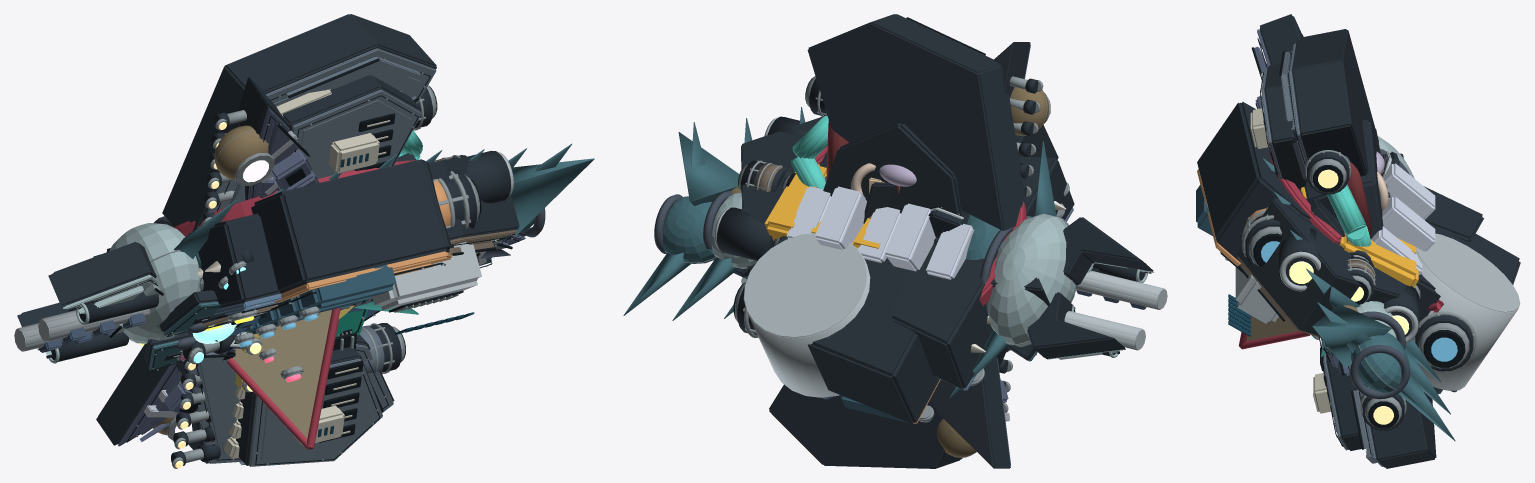
Rendered from voltaris-fleet.glb.
The picture shows the model from 3 angles, left to right: view 1: azimuth 30°, elevation 25°; view 2: azimuth 150°, elevation 25°; view 3: azimuth 270°, elevation 25°; orthographic projection. The views are drawn at different scales.
Parts seen in each view (by area): view 1: boss_gatekeeper__GATEKEEPER / primary paint, boss_gatekeeper__recess / carbon titanium, enemy_11__recess / carbon titanium, boss_nereid__recess / carbon titanium, boss_nereid__NEREID / contrasting armour, boss_nereid__NEREID / primary paint, enemy_31__OBELISK / primary paint, boss_ares__ARES / contrasting armour, enemy_27__recess / carbon titanium, boss_jove__JOVE / primary paint, boss_jove__recess / carbon titanium, boss_ares__recess / carbon titanium (+16 smaller); view 2: boss_gatekeeper__recess / carbon titanium, boss_ares__ARES / contrasting armour, enemy_11__recess / carbon titanium, boss_nereid__NEREID / primary paint, enemy_27__recess / carbon titanium, enemy_41__CALVING / contrasting armour, boss_nereid__NEREID / contrasting armour, boss_nereid__recess / carbon titanium, enemy_03__recess / carbon titanium, boss_ares__recess / carbon titanium, boss_jove__recess / carbon titanium, boss_jove__JOVE / service trim (+8 smaller); view 3: boss_gatekeeper__recess / carbon titanium, enemy_11__recess / carbon titanium, boss_ares__ARES / contrasting armour, boss_ares__recess / carbon titanium, boss_nereid__NEREID / primary paint, enemy_41__CALVING / contrasting armour, boss_gatekeeper__GATEKEEPER / primary paint, boss_nereid__NEREID / service trim, enemy_11__machined / titanium, boss_gatekeeper__ceramic / heatshield, enemy_27__recess / carbon titanium, enemy_27__ANVIL / contrasting armour (+21 smaller).
Part boxes in pixels (x1,y1,x2,y2): boss_gatekeeper__GATEKEEPER / primary paint: (188,48,436,466); boss_gatekeeper__recess / carbon titanium: (162,14,436,465); enemy_11__recess / carbon titanium: (251,159,477,293); boss_nereid__recess / carbon titanium: (17,241,217,365); boss_nereid__NEREID / contrasting armour: (36,223,200,363); boss_nereid__NEREID / primary paint: (149,143,594,370); enemy_31__OBELISK / primary paint: (232,310,331,438); boss_ares__ARES / contrasting armour: (14,151,513,351); enemy_27__recess / carbon titanium: (104,213,280,308); boss_jove__JOVE / primary paint: (118,107,525,446); boss_jove__recess / carbon titanium: (96,77,526,445); boss_ares__recess / carbon titanium: (93,150,519,323); boss_gatekeeper__recess / carbon titanium: (769,14,1038,468); boss_ares__ARES / contrasting armour: (714,117,1167,397); enemy_11__recess / carbon titanium: (737,125,1058,423); boss_nereid__NEREID / primary paint: (623,107,1056,398); enemy_27__recess / carbon titanium: (891,156,1074,388); enemy_41__CALVING / contrasting armour: (786,186,974,279); boss_nereid__NEREID / contrasting armour: (711,192,1153,359); boss_nereid__recess / carbon titanium: (713,217,1153,360); enemy_03__recess / carbon titanium: (823,123,969,237); boss_ares__recess / carbon titanium: (717,116,1050,306); boss_jove__recess / carbon titanium: (747,42,1030,468); boss_jove__JOVE / service trim: (731,87,1048,457); boss_gatekeeper__recess / carbon titanium: (1264,29,1436,468); enemy_11__recess / carbon titanium: (1197,102,1520,371); boss_ares__ARES / contrasting armour: (1235,233,1520,390); boss_ares__recess / carbon titanium: (1237,153,1419,341); boss_nereid__NEREID / primary paint: (1262,158,1455,441); enemy_41__CALVING / contrasting armour: (1370,163,1435,274); boss_gatekeeper__GATEKEEPER / primary paint: (1261,43,1383,466); boss_nereid__NEREID / service trim: (1337,148,1409,399); enemy_11__machined / titanium: (1225,207,1476,368); boss_gatekeeper__ceramic / heatshield: (1260,49,1398,455); enemy_27__recess / carbon titanium: (1424,186,1483,241); enemy_27__ANVIL / contrasting armour: (1339,233,1418,287).
Size of the model in its own units: 8 by 6.5 by 4.68.
